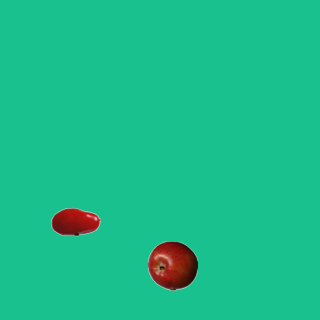Apple Braeburn: (147, 240, 197, 290)
Tomato 2: (50, 196, 100, 246)
